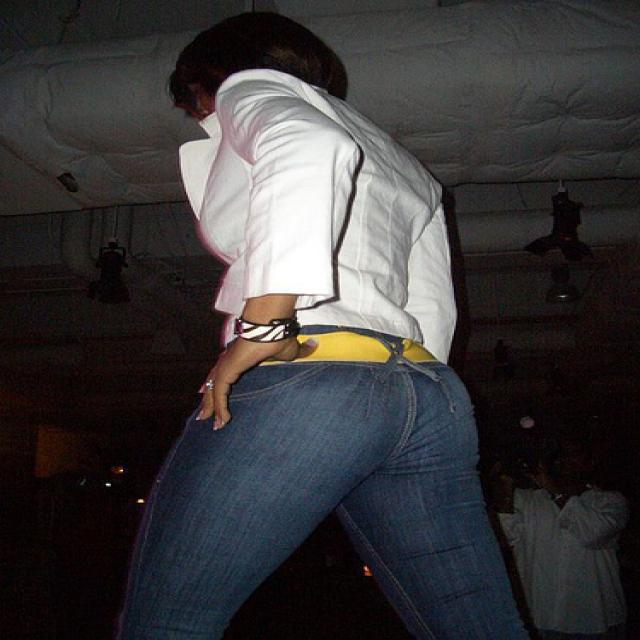person: (119, 10, 516, 640), (508, 439, 636, 640)
